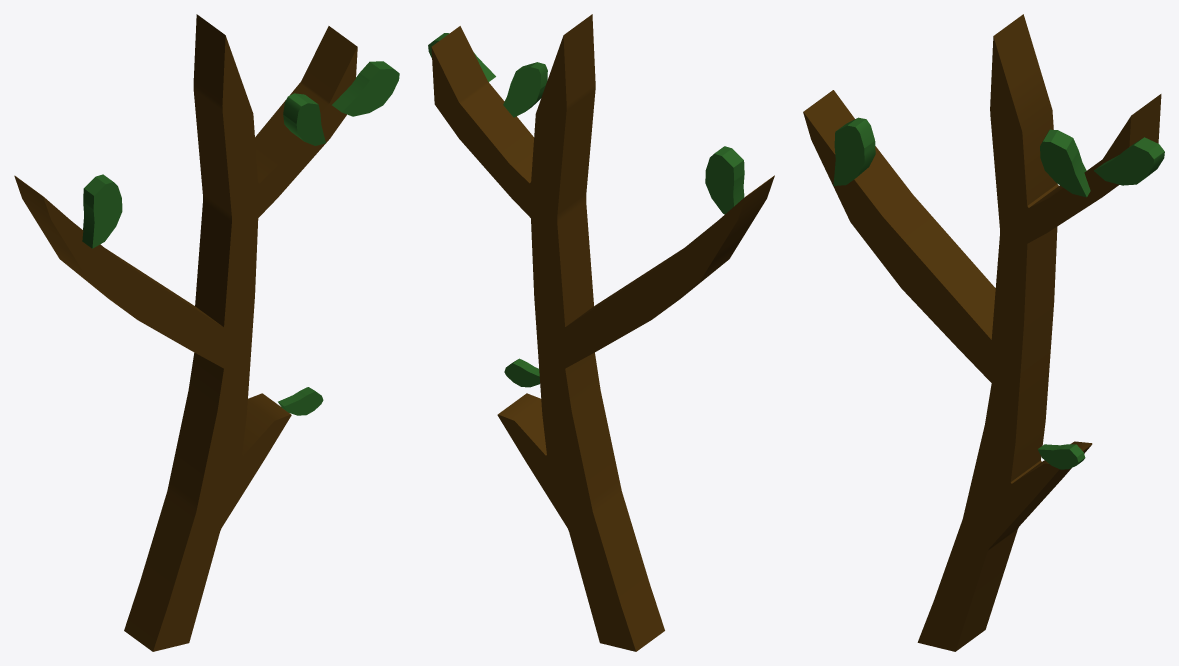
File: Tree_01.fbx
The picture shows the model from 3 angles, left to right: view 1: azimuth 30°, elevation 25°; view 2: azimuth 150°, elevation 25°; view 3: azimuth 330°, elevation 25°; orthographic projection. The views are drawn at different scales.
Parts seen in each view (by area): view 1: Trees0_5:tree_0; view 2: Trees0_5:tree_0; view 3: Trees0_5:tree_0.
Boxes of the visible parts, x1,y1,x2,y2 form: Trees0_5:tree_0: (14,14,399,651); Trees0_5:tree_0: (428,14,774,651); Trees0_5:tree_0: (803,14,1164,651).
Bounding box in the file's own units: 13.97 × 23.08 × 3.02.
